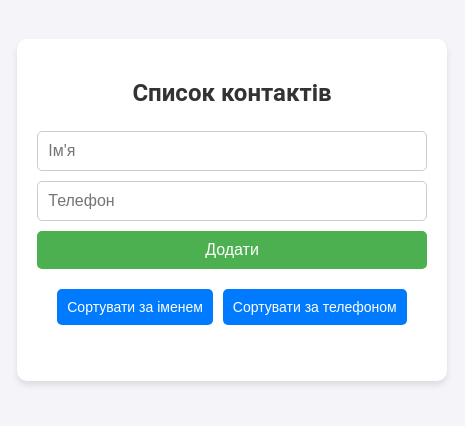
Deleting a contact › should delete a contact
In the field with placeholder "Ім": (232, 151) [37,131,427,171], type "Ганна"
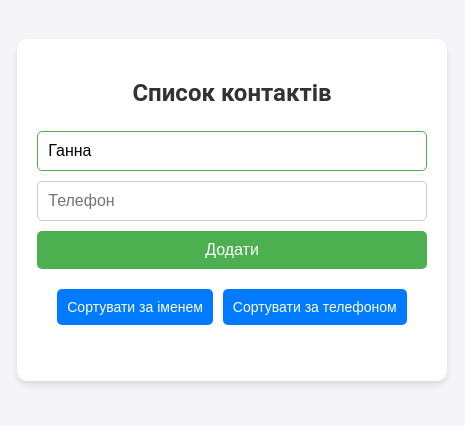
In the field with placeholder "Телефон": (232, 201) [37,181,427,221], type "1234567890"
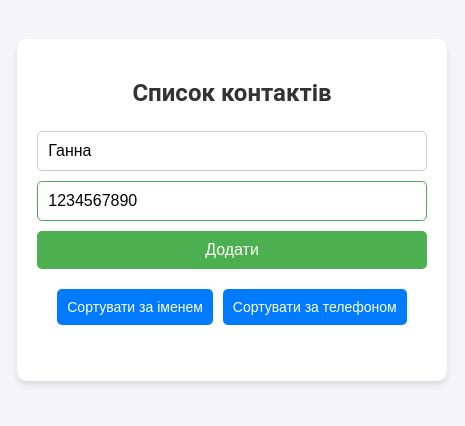
Click the button "Додати": (232, 250) [37,231,427,269]
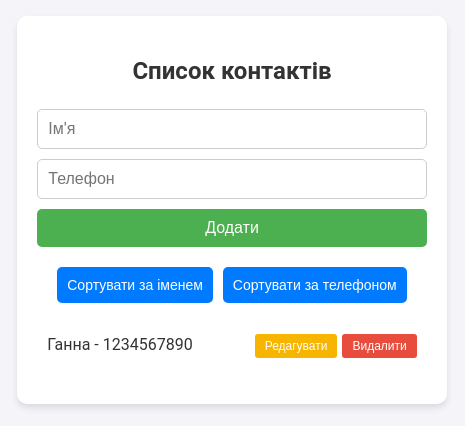
Click the button "Видалити": (380, 346) [343,334,417,358]
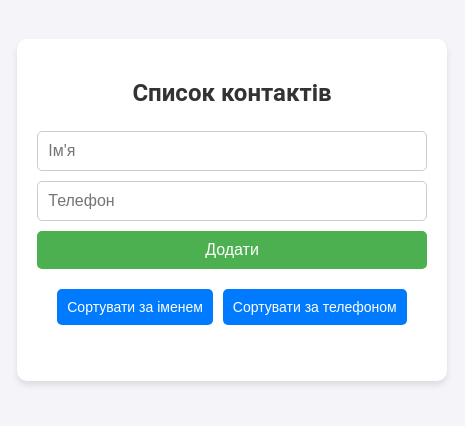
Result: the text with class "contacts-list" no longer shows "Ганна - 1234567890"
